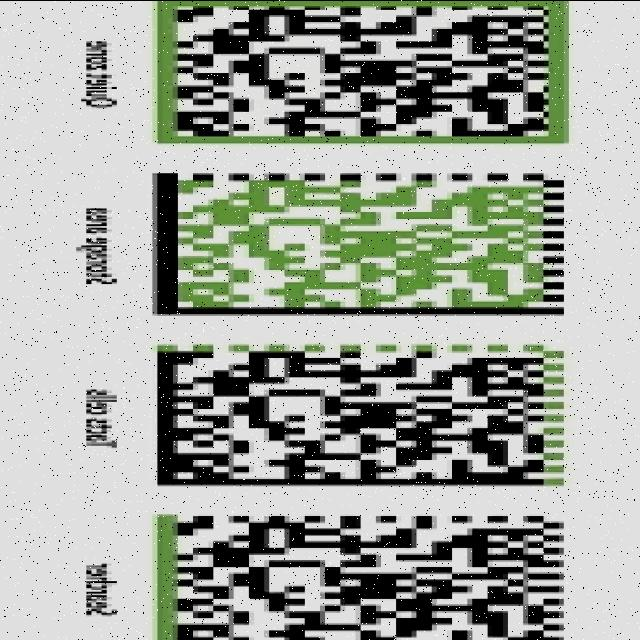datamatrix: (142, 165, 579, 322), (147, 336, 579, 487), (152, 0, 579, 148), (152, 513, 574, 640)
